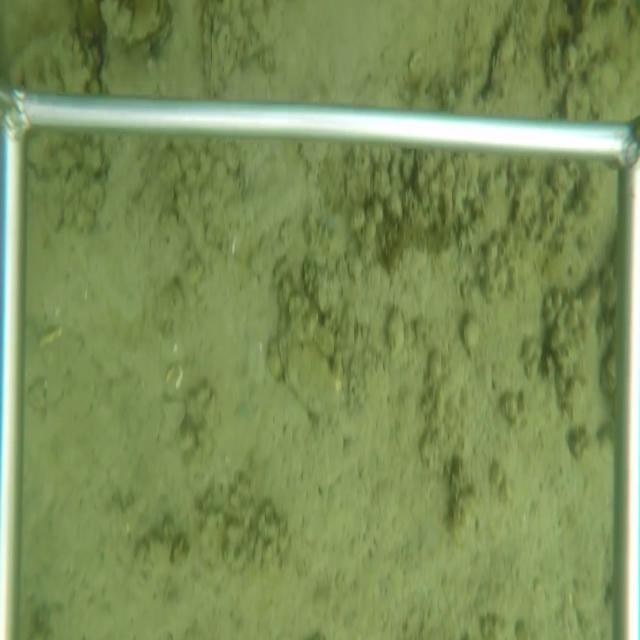Oyster-Closed: (202, 12, 223, 99)
Oyster-Indeterminate: (275, 325, 346, 417)
